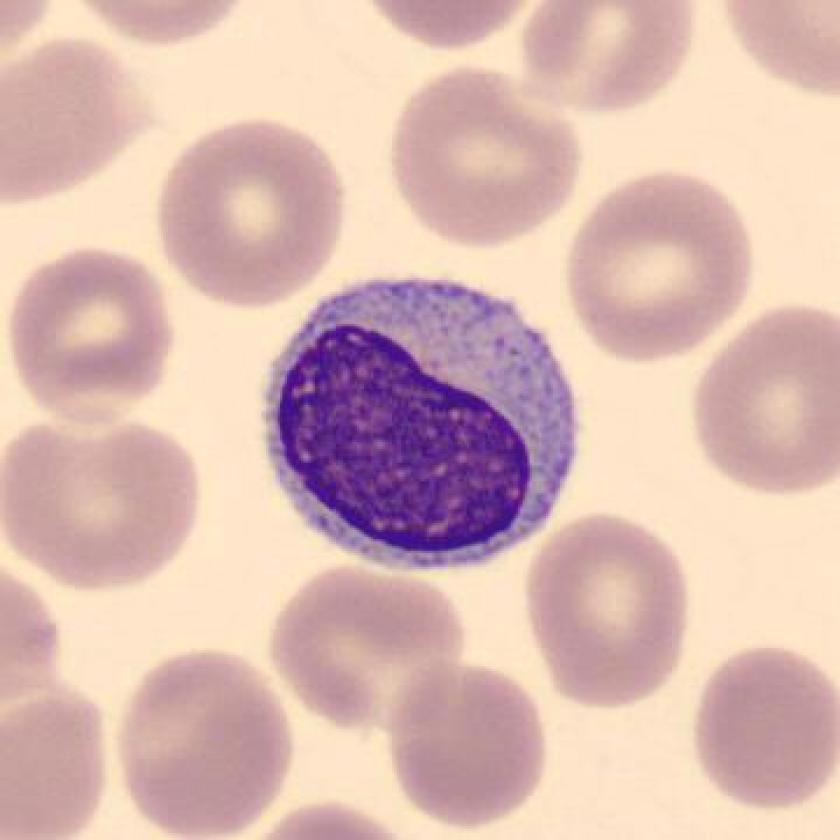lymphocyte: (251, 265, 598, 586)
